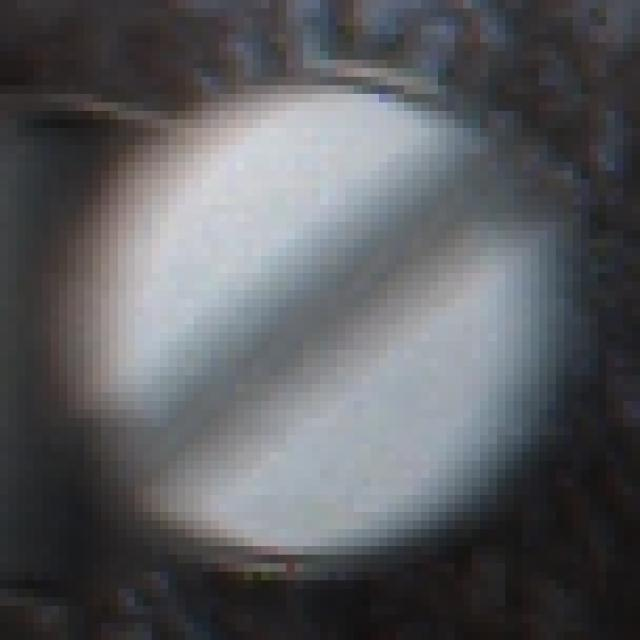restriction ends: (63, 78, 567, 569)
